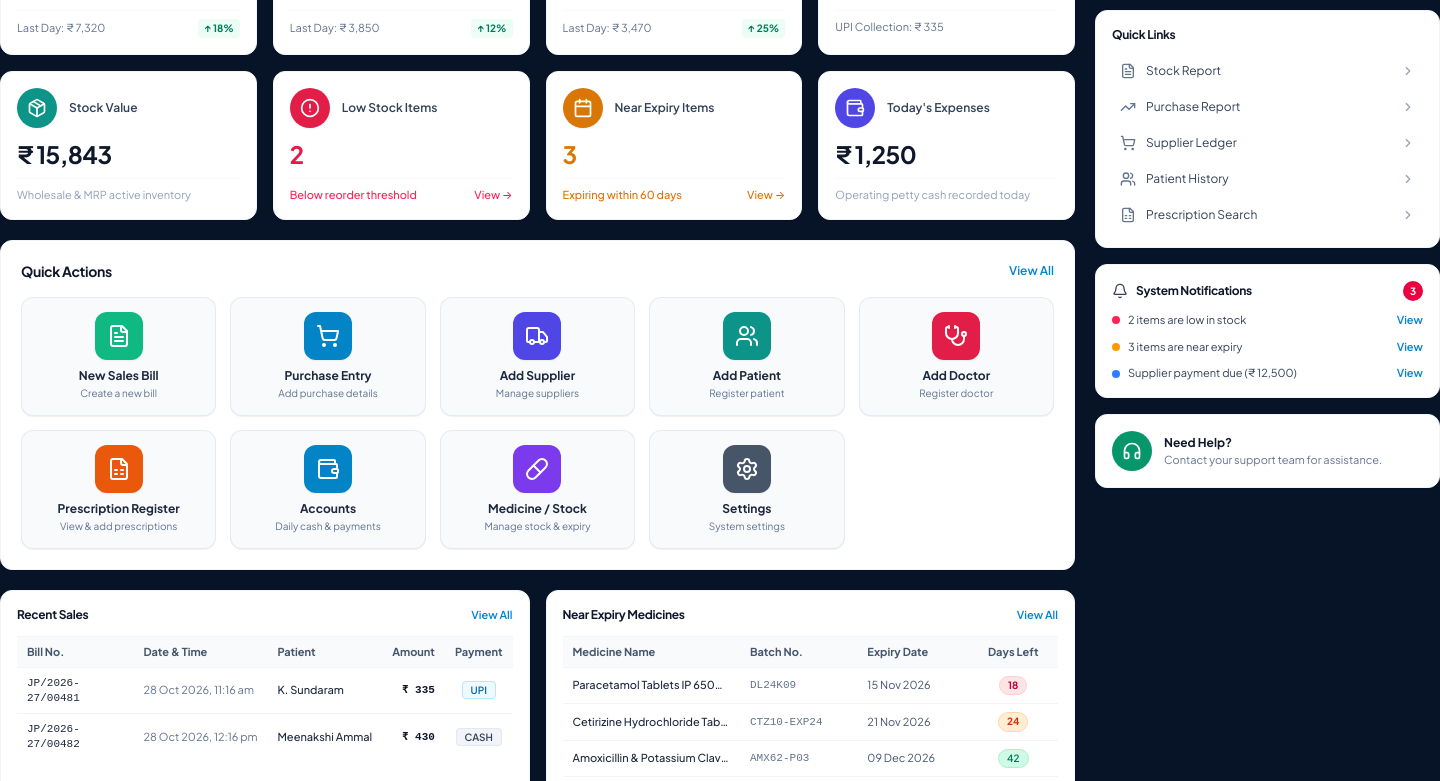
Scenario: Client UI/UX System Test: Jeeva Medicals Dashboard › opens interactive modal dialog when Add Patient quick action is clicked
The width and height of the screenshot is (1440, 781).
(page scrolled)
Click the text "Add Patient": (747, 376) [713, 368, 781, 384]
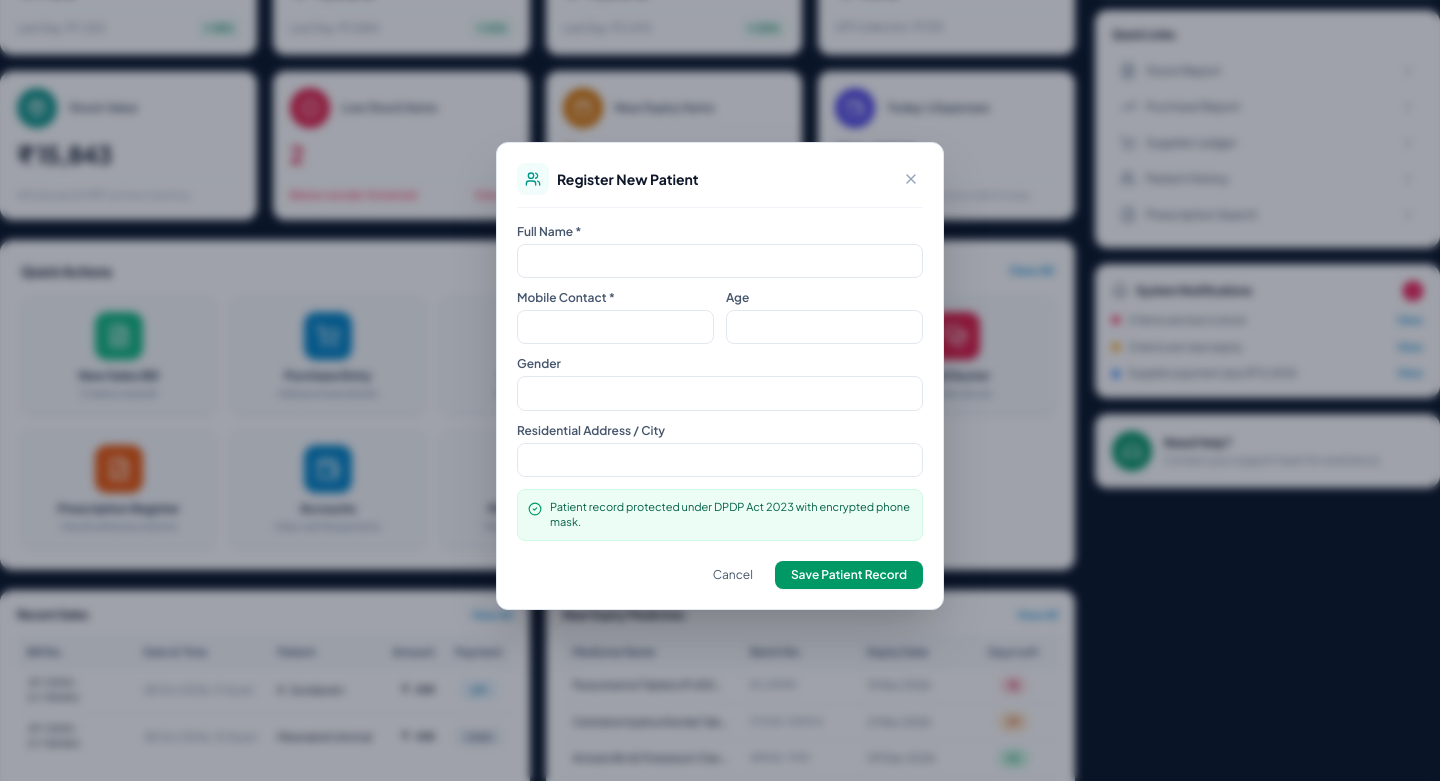
Now the heading "Register New Patient" is shown, box [557, 169, 699, 189]
Now the field with placeholder "e.g. Ramesh Kumar" is shown, box [517, 244, 923, 278]
Now the field with placeholder "+91 98401 XXXXX" is shown, box [517, 310, 714, 344]
// Close modal
Click the button "Cancel": (733, 575) [699, 561, 767, 589]
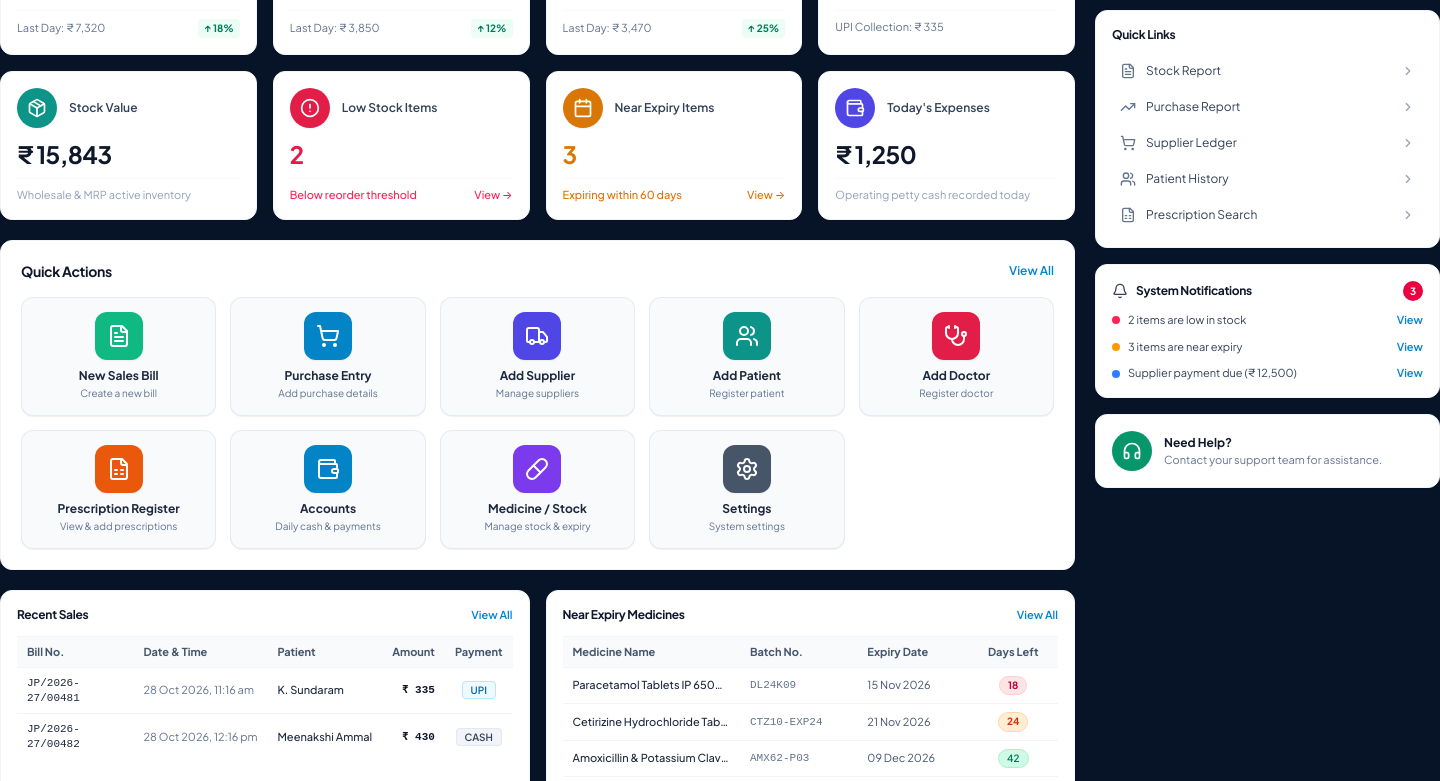
Now the heading "Register New Patient" is gone
